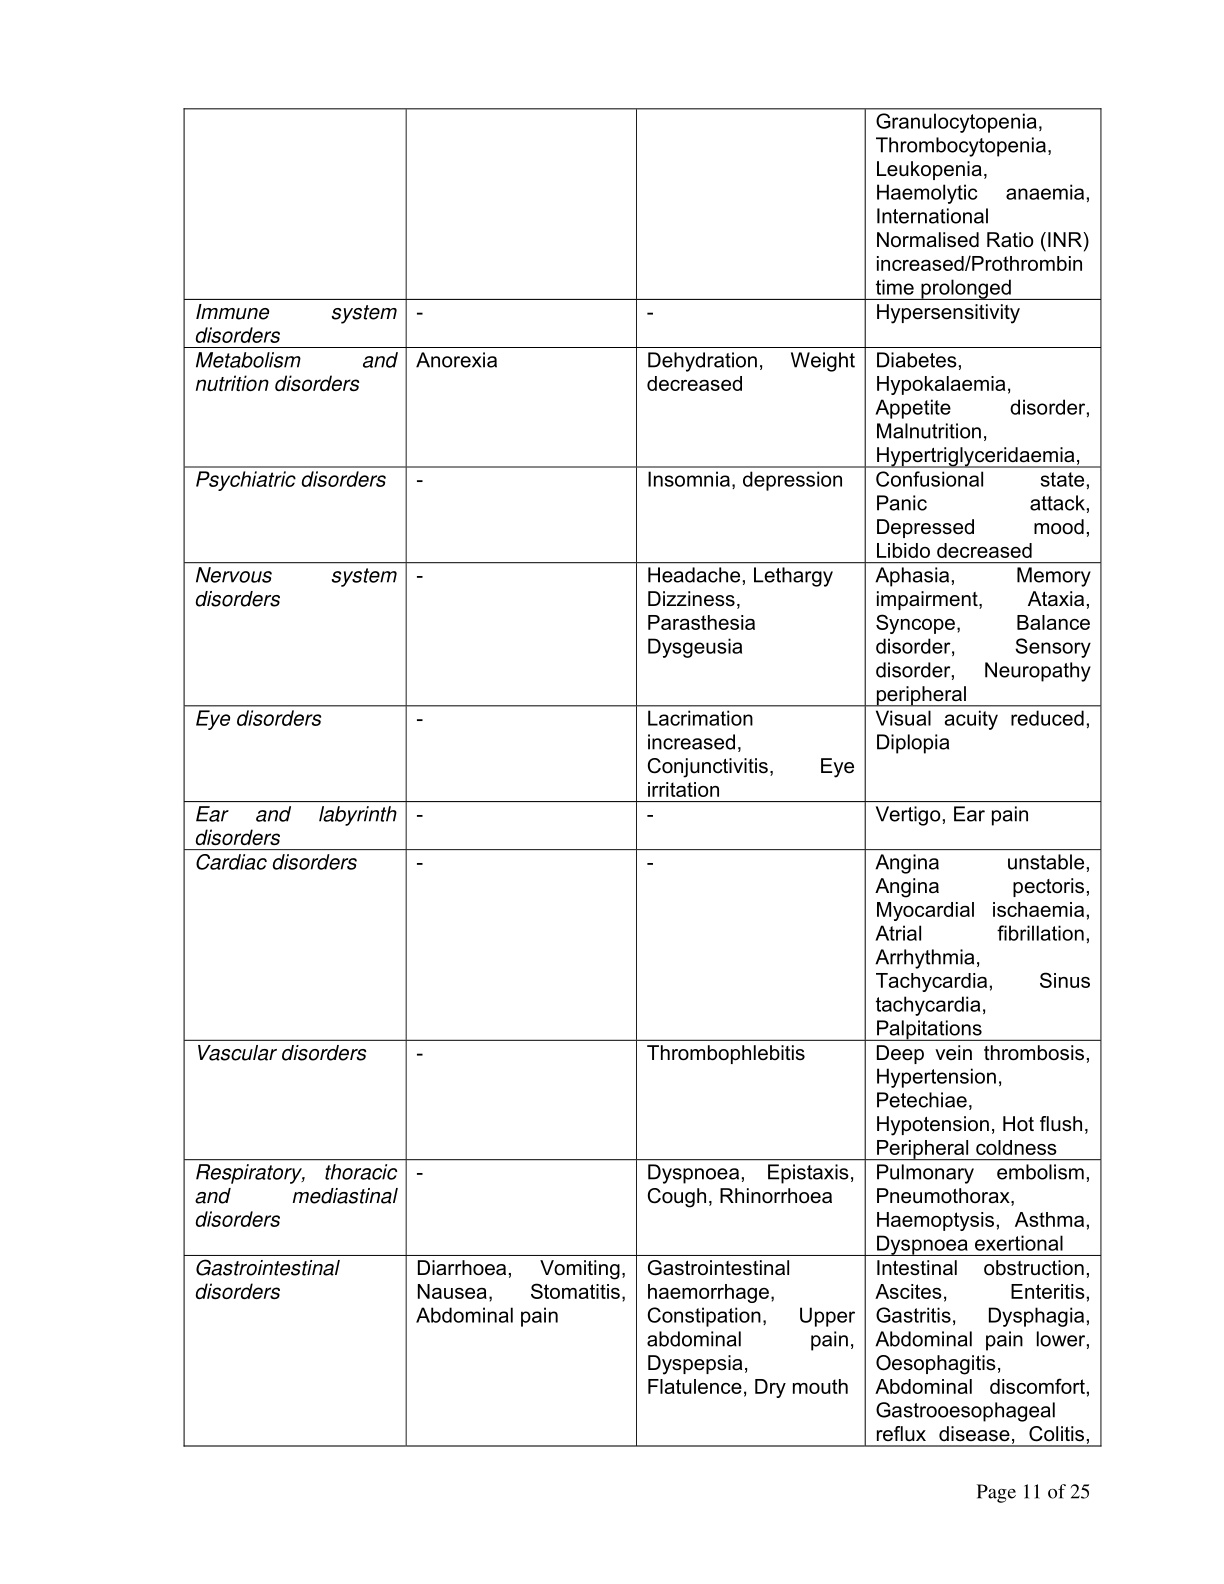full_lined: (183, 107, 1102, 1446)
